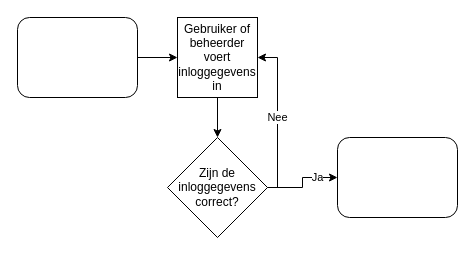
This 475x255 diagram has some shape labels left out. The shapes that lost their labels are listed below. From the top down, each one's centre as x and y in pixels, then its label:
At [77,57]: "Applicatie openen".
At [397,177]: "Gebruiker is ingelogd".
